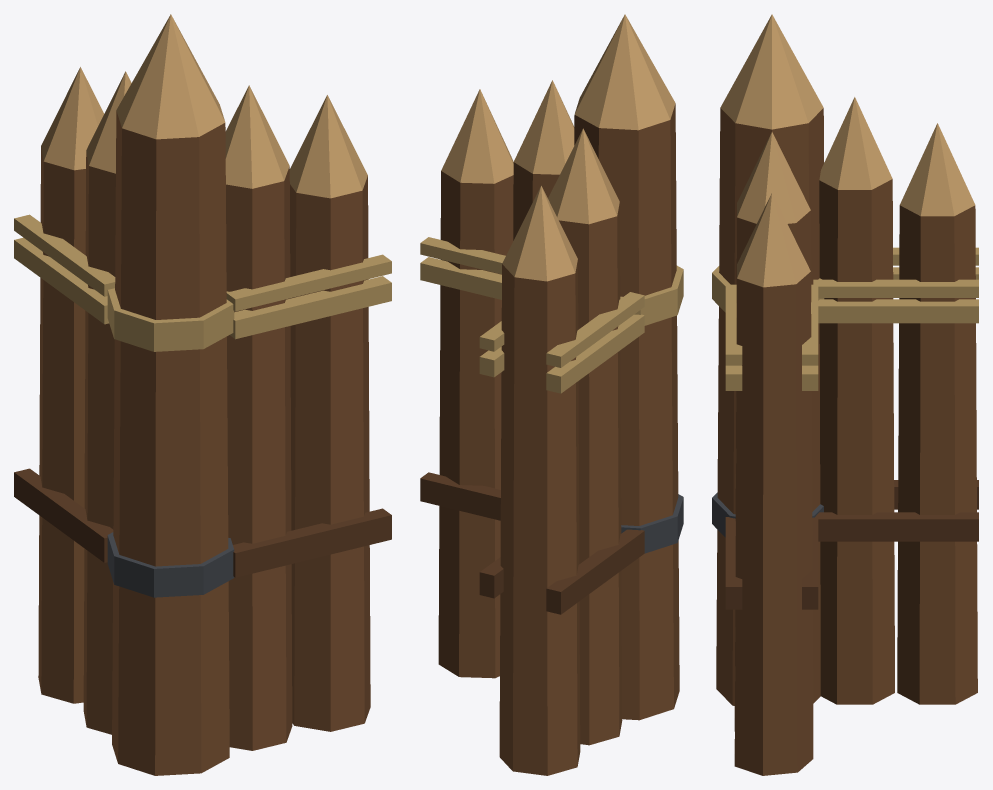
File: palisade_corner.glb
3 renders of one model, left to right at view 1: azimuth 30°, elevation 25°; view 2: azimuth 150°, elevation 25°; view 3: azimuth 270°, elevation 25°, orthographic. The views are drawn at different scales.
Visible parts, largest first — view 1: wall_palisade_corner; view 2: wall_palisade_corner; view 3: wall_palisade_corner.
Boxes of the visible parts, x1,y1,x2,y2 form: wall_palisade_corner: [14, 14, 391, 775]; wall_palisade_corner: [420, 14, 683, 775]; wall_palisade_corner: [712, 14, 978, 775].
Size of the model in its own units: 1.29 by 3.6 by 1.29.
